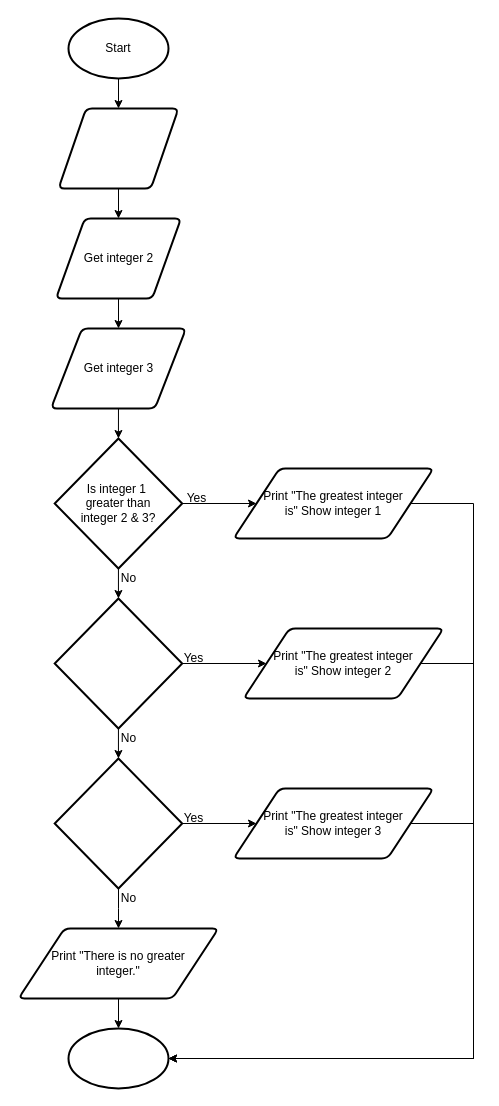
Some shapes in this 499 by 1106 pixel diagram are drawn without their labels. Each missing label, with the box of its shape:
Get integer 1: (57, 107, 179, 189)
Is integer 2 greater than integer 1 & 3?: (53, 597, 183, 729)
Is integer 3 greater than integer 1 & 2?: (53, 757, 183, 889)
Stop: (67, 1027, 169, 1089)
